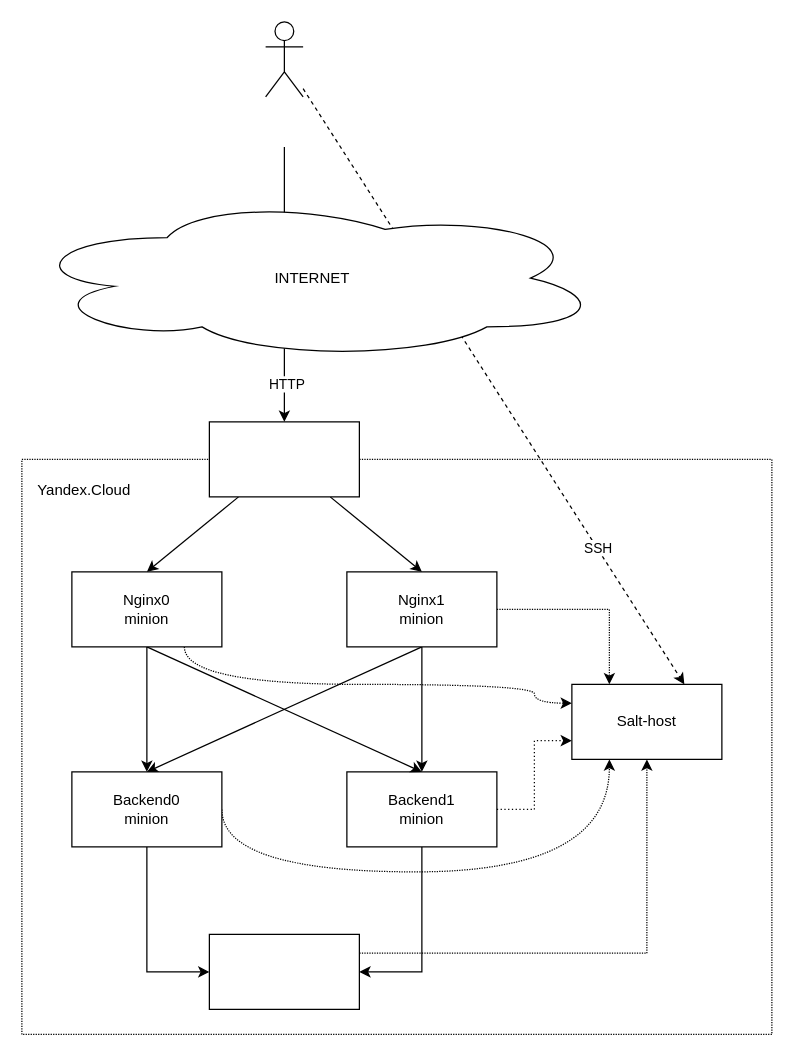
The diagram is 794 pixels wide and 1056 high, and some of its shapes have lost their labels. Here are the shapes that lost their labels. From the top down, the centre of each, then its label:
At pixel 283 59: "User".
At pixel 283 459: "Yandex load balancer".
At pixel 283 971: "DB minion".
